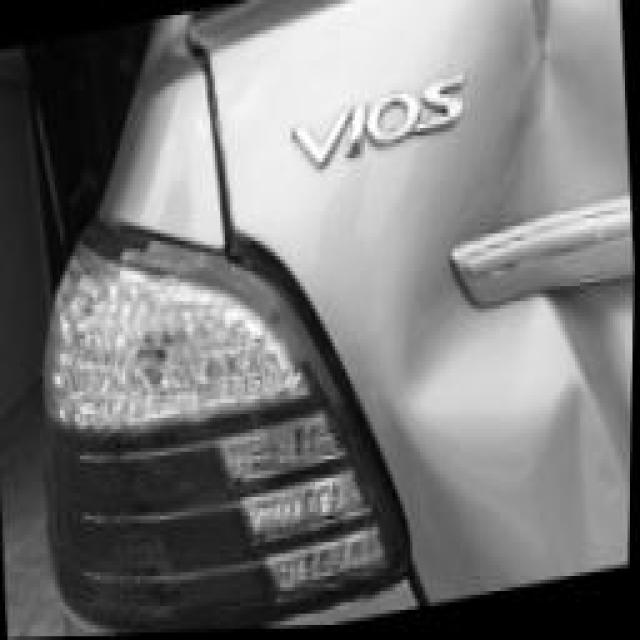Dickey: (282, 0, 635, 587)
